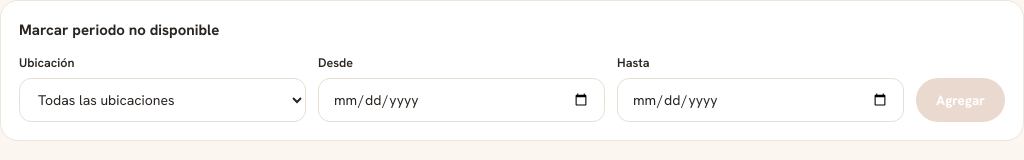
Test: VacationForm › disables Agregar until both dates are filled
Check: the button "Agregar" is disabled, box [916,78,1005,122]
In the date field labelled "Desde": (462, 100) [318,78,605,122], type "2026-07-15"
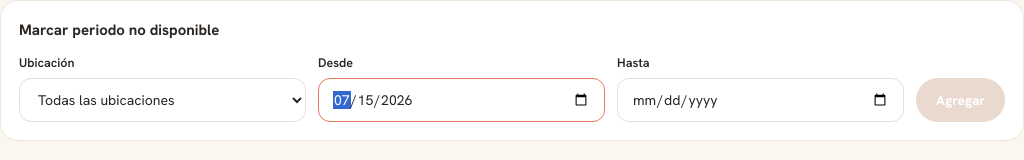
Check: the button "Agregar" is disabled, box [916,78,1005,122]
In the date field labelled "Hasta": (760, 100) [617,78,904,122], type "2026-07-22"
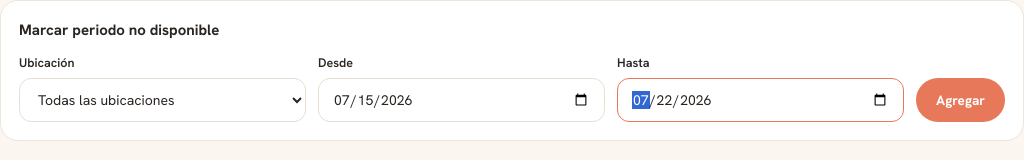
Check: the button "Agregar" is enabled, box [916,78,1005,122]
